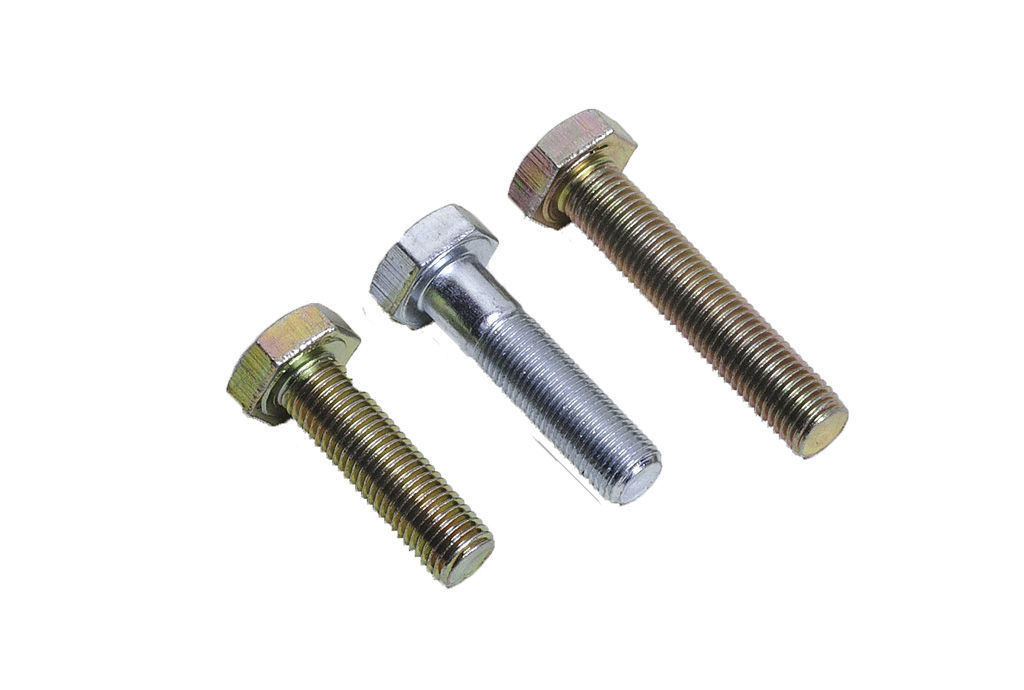screw: (507, 109, 850, 460), (368, 203, 663, 506), (225, 304, 494, 590)
